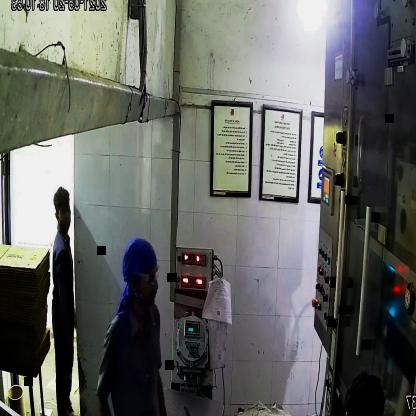goggles: (129, 264, 162, 285)
no_goggles: (56, 204, 74, 220)
